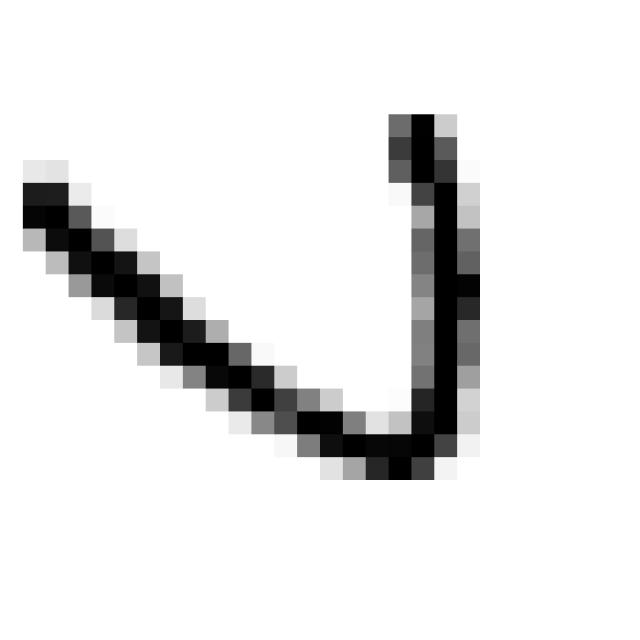7 -seven-: (5, 91, 502, 503)
